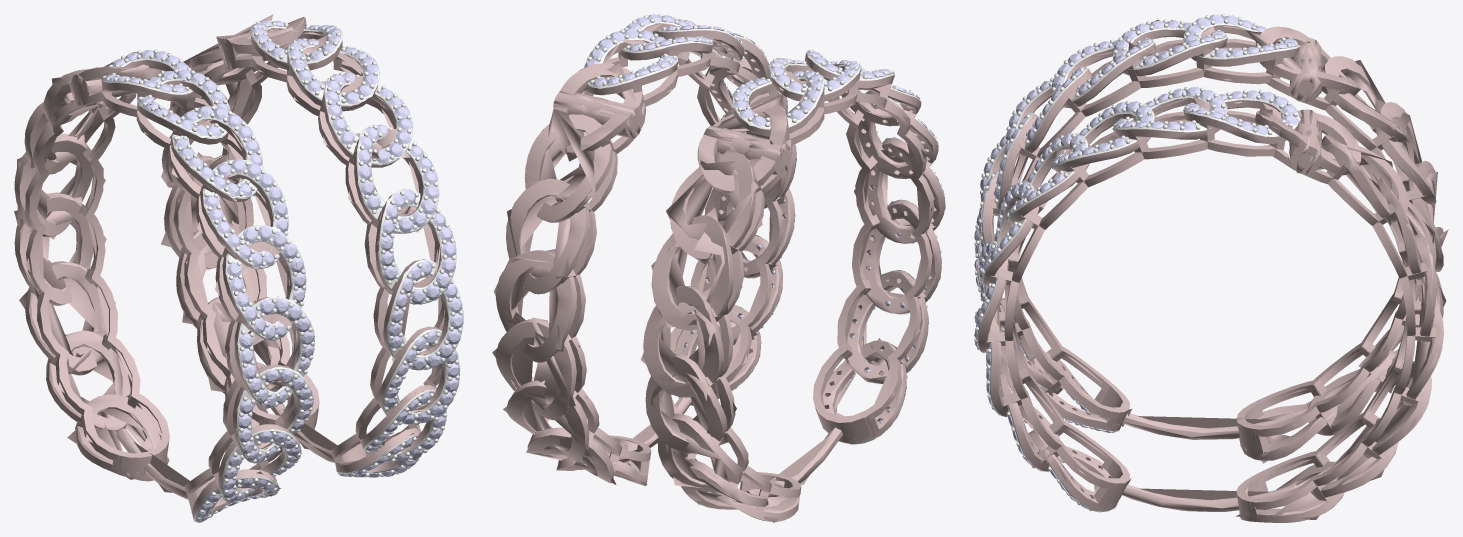
3 renders of one model, left to right at view 1: azimuth 30°, elevation 25°; view 2: azimuth 150°, elevation 25°; view 3: azimuth 270°, elevation 25°, orthographic.
Parts seen in each view (by area): view 1: highPolyMesh, lowPolyMesh; view 2: highPolyMesh, lowPolyMesh; view 3: highPolyMesh, lowPolyMesh.
Boxes of the visible parts, left/top/right/bottom form: highPolyMesh: left=14, top=17, right=463, bottom=522; lowPolyMesh: left=14, top=14, right=463, bottom=522; highPolyMesh: left=495, top=14, right=945, bottom=521; lowPolyMesh: left=492, top=14, right=945, bottom=522; highPolyMesh: left=974, top=14, right=1443, bottom=522; lowPolyMesh: left=974, top=14, right=1448, bottom=519.
Bounding box in the file's own units: 0.021 × 0.0369 × 0.0375.
